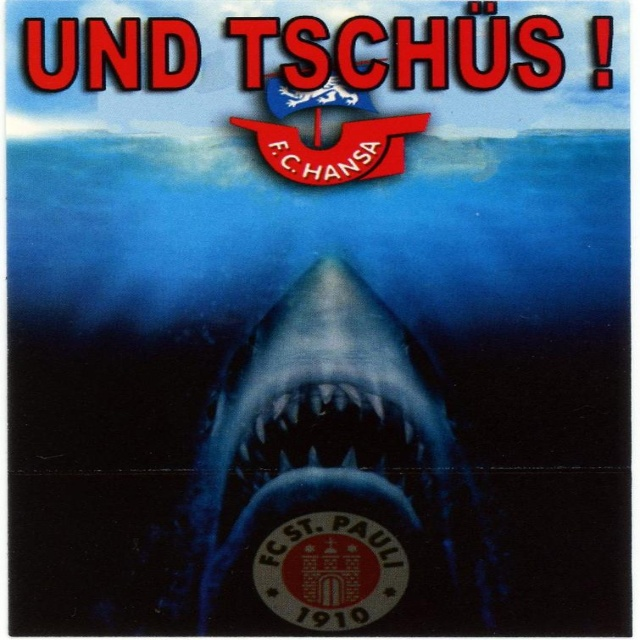Shark: (196, 253, 466, 639)
